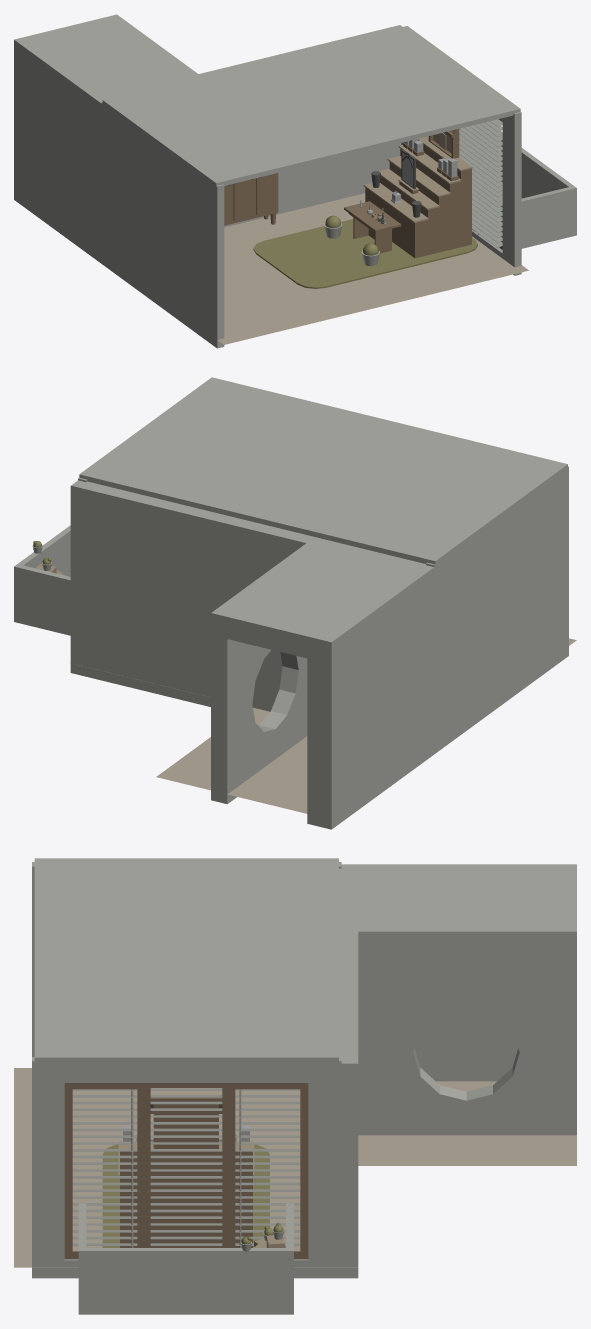
Rendered from home_funeral.fbx.
3 renders of one model, top to bottom at view 1: azimuth 30°, elevation 25°; view 2: azimuth 150°, elevation 25°; view 3: azimuth 270°, elevation 25°, orthographic. The views are drawn at different scales.
Parts seen in each view (by area): view 1: pPlane561, pPlane648, kidbedroom1_pPlane155, pPlane693, kidbedroom1_pPlane156, pPlane694, pPlane580, pPlane563, kidbedroom1_pPlane159, pPlane562, pPlane685, polySurface714 (+8 smaller); view 2: pPlane561, pPlane563, pPlane648, pPlane693, polySurface714, pPlane694, kidbedroom1_pPlane160, kidbedroom1_pPlane159, pPlane685, pPlane649; view 3: pPlane561, polySurface714, pPlane562, kidbedroom1_pPlane159, kidbedroom1_pPlane155, pPlane694, pPlane693, pPlane620, pPlane580, kidbedroom1_pPlane160, pPlane563, pPlane613 (+22 smaller).
Boxes of the visible parts, x1=… form: pPlane561: x1=102, y1=26, x2=520, y2=187; pPlane648: x1=101, y1=102, x2=224, y2=348; kidbedroom1_pPlane155: x1=217, y1=193, x2=528, y2=344; pPlane693: x1=14, y1=35, x2=114, y2=259; kidbedroom1_pPlane156: x1=253, y1=219, x2=477, y2=288; pPlane694: x1=33, y1=17, x2=184, y2=95; pPlane580: x1=365, y1=144, x2=471, y2=258; pPlane563: x1=188, y1=25, x2=402, y2=227; kidbedroom1_pPlane159: x1=501, y1=135, x2=576, y2=248; pPlane562: x1=401, y1=111, x2=521, y2=275; pPlane685: x1=95, y1=94, x2=118, y2=264; polySurface714: x1=104, y1=14, x2=199, y2=78; pPlane561: x1=79, y1=377, x2=567, y2=566; pPlane563: x1=70, y1=480, x2=329, y2=711; pPlane648: x1=426, y1=466, x2=568, y2=752; pPlane693: x1=307, y1=566, x2=428, y2=829; polySurface714: x1=211, y1=541, x2=324, y2=804; pPlane694: x1=225, y1=547, x2=401, y2=658; kidbedroom1_pPlane160: x1=156, y1=708, x2=307, y2=813; kidbedroom1_pPlane159: x1=14, y1=525, x2=70, y2=635; pPlane685: x1=403, y1=560, x2=436, y2=758; pPlane649: x1=323, y1=540, x2=411, y2=566; pPlane561: x1=34, y1=858, x2=338, y2=1063; polySurface714: x1=353, y1=922, x2=576, y2=1135; pPlane562: x1=32, y1=1057, x2=341, y2=1278; kidbedroom1_pPlane159: x1=78, y1=1203, x2=293, y2=1314; kidbedroom1_pPlane155: x1=14, y1=1068, x2=357, y2=1267; pPlane694: x1=353, y1=877, x2=576, y2=923; pPlane693: x1=353, y1=864, x2=576, y2=1081; pPlane620: x1=64, y1=1083, x2=308, y2=1259; pPlane580: x1=120, y1=1151, x2=252, y2=1247; kidbedroom1_pPlane160: x1=358, y1=1081, x2=576, y2=1165; pPlane563: x1=336, y1=922, x2=358, y2=1278; pPlane613: x1=150, y1=1097, x2=222, y2=1148.
Bounding box in the file's own units: 11.01 × 4.58 × 10.58.
